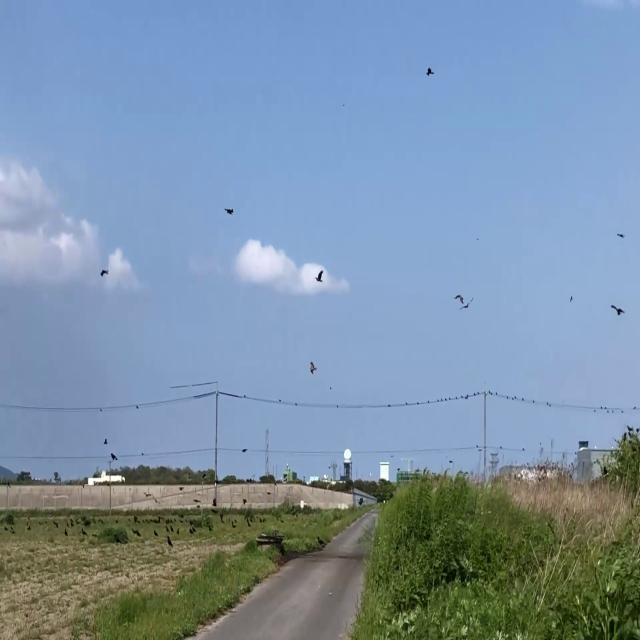bird: (454, 289, 474, 314), (610, 299, 624, 320), (316, 264, 323, 286), (101, 261, 107, 283), (427, 61, 433, 83), (167, 531, 171, 549), (154, 526, 157, 540), (65, 524, 68, 538)
